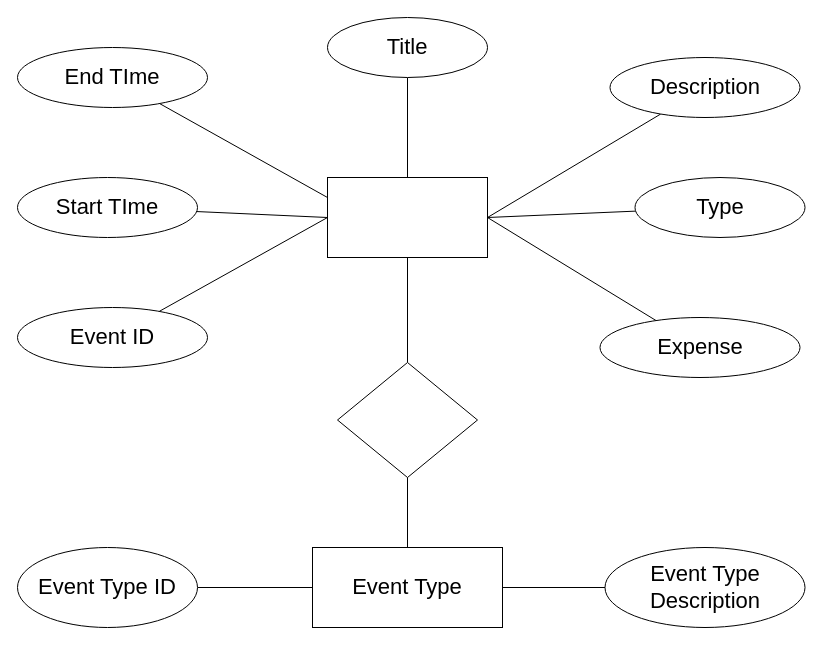
Some shapes in this 823 by 645 pixel diagram are drawn without their labels. The shapes that lost their labels are listed below. From the top down, each one's box as (x1, y1, x2, y2) in pixels, then its label:
(326, 176, 488, 258): Events
(336, 362, 478, 478): has
